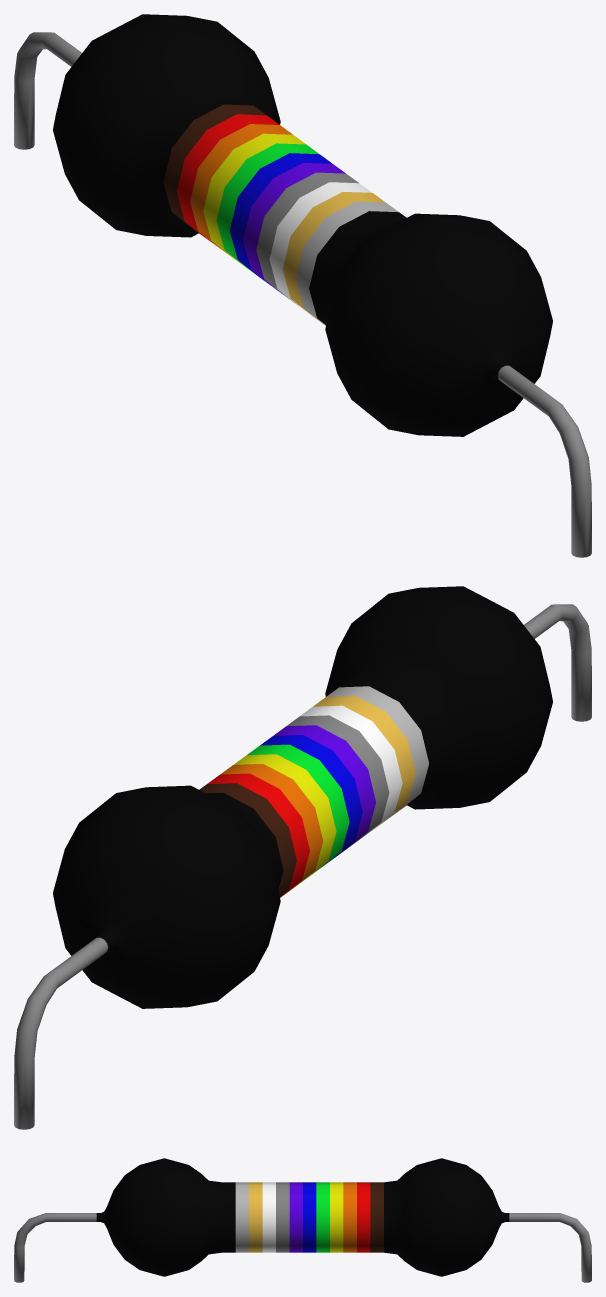
The model's file is Rezystor_paski.fbx.
3 views of the same model, one above another, from view 1: azimuth 30°, elevation 25°; view 2: azimuth 150°, elevation 25°; view 3: azimuth 270°, elevation 25° (orthographic). The views are drawn at different scales.
Visible parts, largest first — view 1: rezystor_paski; view 2: rezystor_paski; view 3: rezystor_paski.
Part boxes in pixels (left/top/right/bottom): rezystor_paski: left=14, top=14, right=591, bottom=557; rezystor_paski: left=14, top=586, right=591, bottom=1129; rezystor_paski: left=14, top=1158, right=591, bottom=1282.
Size of the model in its own units: 338 by 367 by 1641.
